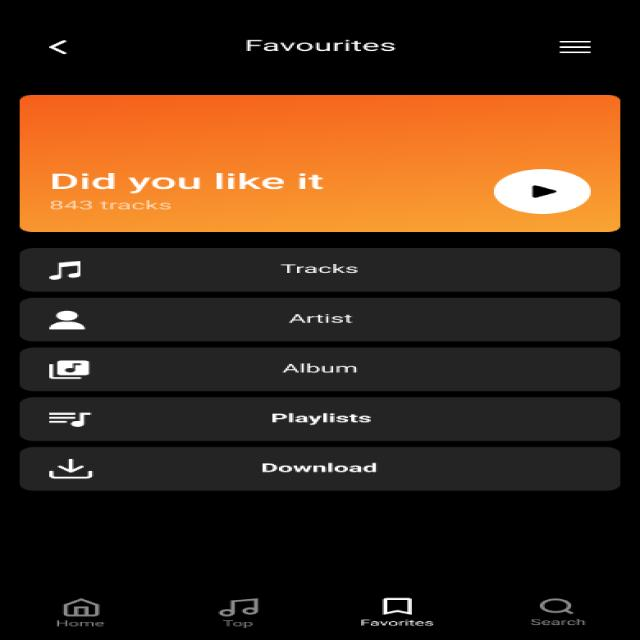button: (17, 243, 636, 296), (14, 443, 636, 494), (14, 392, 630, 442), (14, 298, 633, 344), (17, 348, 633, 392)
icon button: (506, 578, 617, 637), (486, 161, 594, 220), (195, 583, 302, 639), (30, 586, 137, 638), (362, 584, 457, 638), (34, 19, 106, 64), (546, 23, 610, 68)
row: (14, 86, 633, 240), (17, 4, 633, 82)
text: (40, 157, 352, 217), (224, 21, 428, 66)
